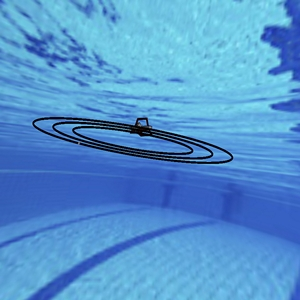circle: (20, 101, 255, 188)
submarine: (120, 112, 157, 142)
